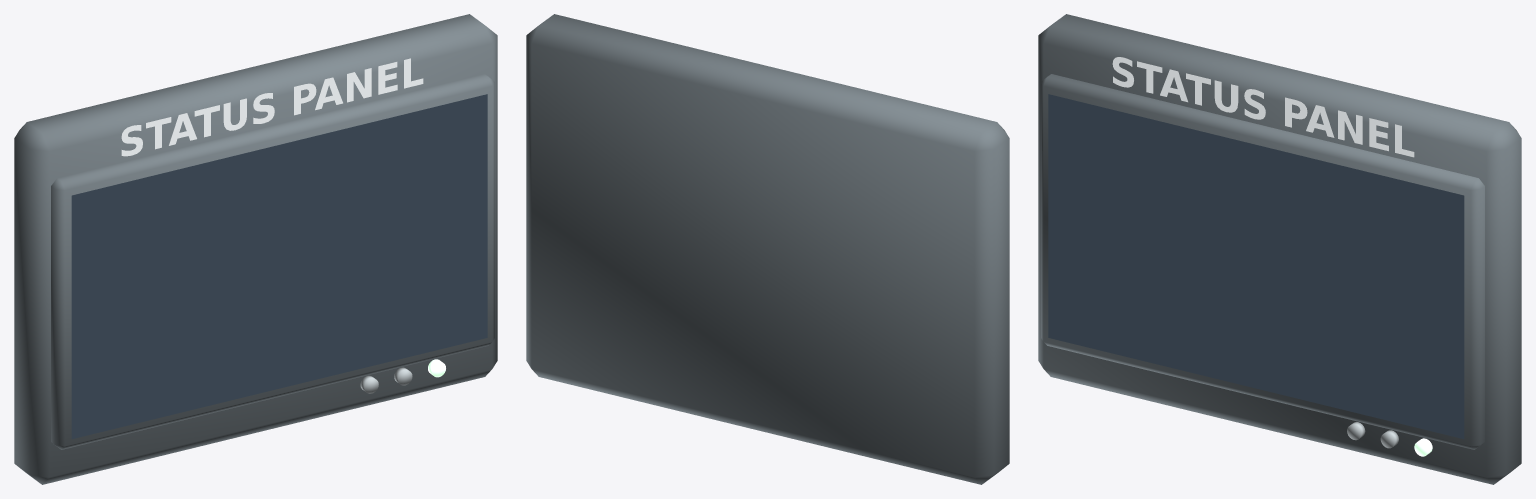
Rendered from status_panel_standard.glb.
3 views of the same model, side by side, from view 1: azimuth 30°, elevation 25°; view 2: azimuth 150°, elevation 25°; view 3: azimuth 330°, elevation 25° (orthographic).
Parts seen in each view (by area): view 1: LiveViewSurface_glass, DisplayHousing_frame, LiveViewSurfaceFrame_frame, TypeLabel_white, Controls_steel; view 2: DisplayHousing_frame; view 3: LiveViewSurface_glass, DisplayHousing_frame, LiveViewSurfaceFrame_frame, TypeLabel_white, Controls_steel.
Boxes of the visible parts, x1,y1,x2,y2 form: LiveViewSurface_glass: (71,94,487,439); DisplayHousing_frame: (14,14,497,484); LiveViewSurfaceFrame_frame: (51,74,494,449); TypeLabel_white: (121,58,423,156); Controls_steel: (360,367,412,393); DisplayHousing_frame: (526,14,1009,484); LiveViewSurface_glass: (1048,94,1464,439); DisplayHousing_frame: (1038,14,1521,484); LiveViewSurfaceFrame_frame: (1041,74,1484,449); TypeLabel_white: (1112,57,1414,157); Controls_steel: (1347,422,1398,448).
Size of the model in its own units: 1.18 by 0.848 by 0.168.
